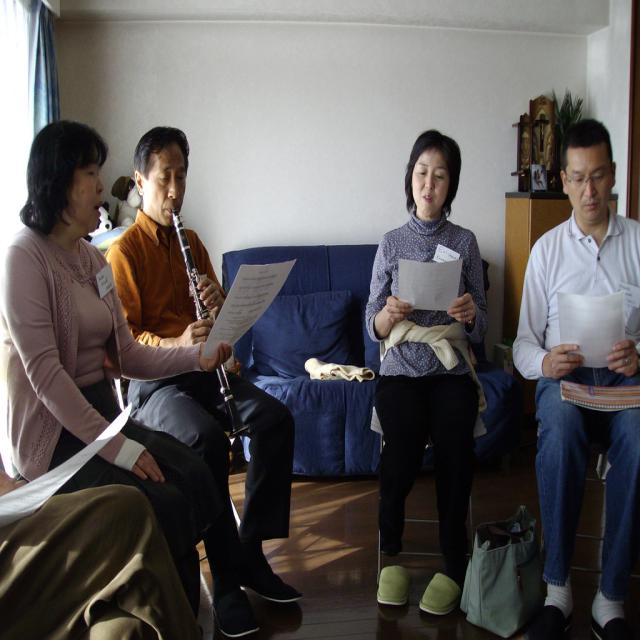clarinet: (170, 211, 247, 439)
